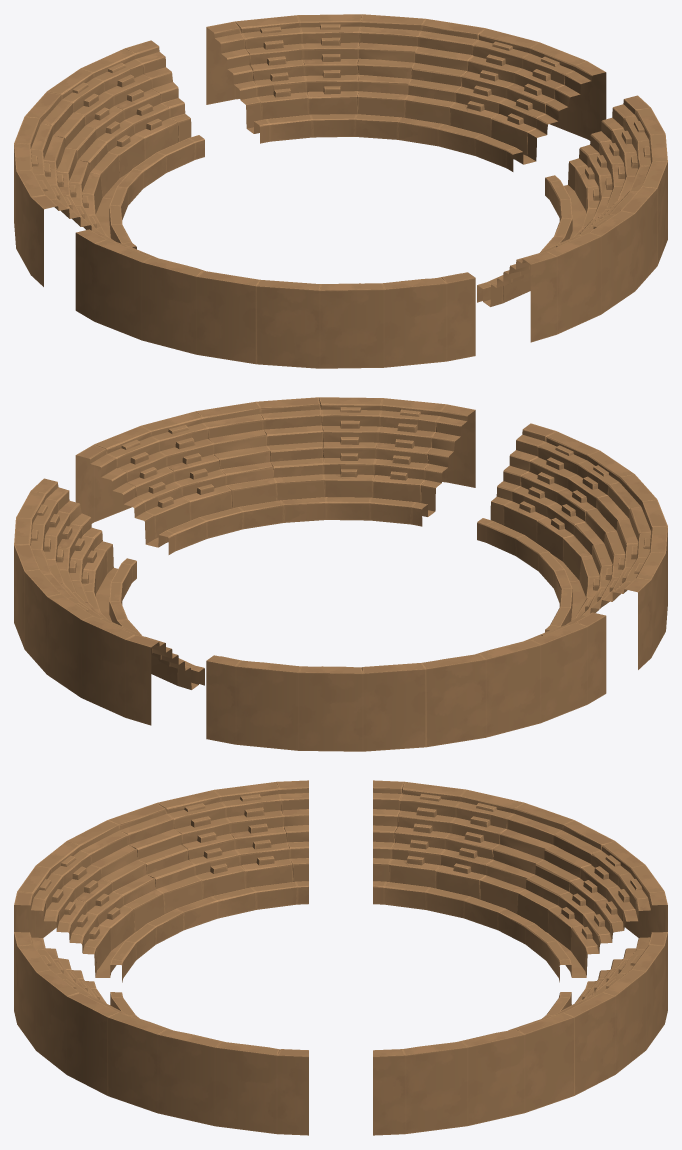
The model's file is rang.fbx.
3 views of the same model, one above another, from view 1: azimuth 30°, elevation 25°; view 2: azimuth 150°, elevation 25°; view 3: azimuth 270°, elevation 25° (orthographic).
Parts seen in each view (by area): view 1: rang_low_final.002; view 2: rang_low_final.002; view 3: rang_low_final.002.
Part boxes in pixels (x1,y1,x2,y2): rang_low_final.002: (14,14,667,368); rang_low_final.002: (14,397,667,751); rang_low_final.002: (14,780,667,1135).
Size of the model in its own units: 11047 by 1469 by 11047.
